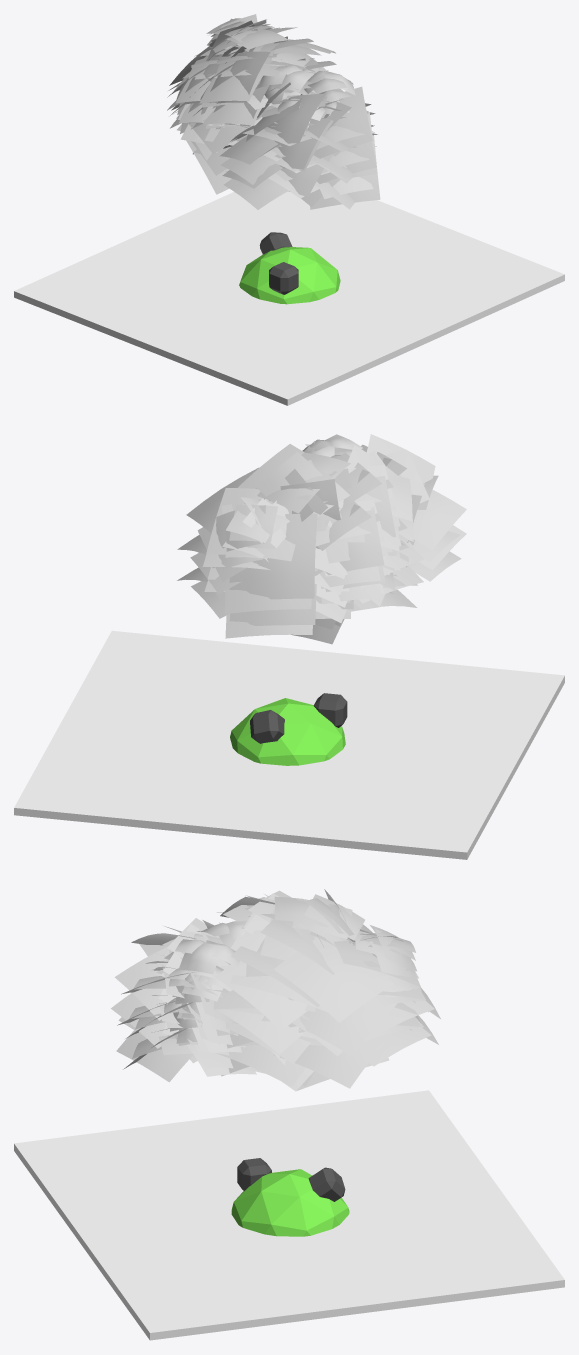
Rendered from modelPath.gltf.
3 views of the same model, one above another, from view 1: azimuth 30°, elevation 25°; view 2: azimuth 150°, elevation 25°; view 3: azimuth 270°, elevation 25° (orthographic). The views are drawn at different scales.
Parts seen in each view (by area): view 1: Plane, Icosphere, tree branch green 1.095, tree branch green 1.093, tree branch green 1.005, tree branch green 1.096, tree branch green 1.103, tree branch green 1.104, tree branch green 1.105, tree branch green 1.065, tree branch green 1.113, tree branch green 1.036 (+17 smaller); view 2: Plane, tree branch green 1.102, Icosphere, tree branch green 1.099, tree branch green 1.042, tree branch green 1.097, tree branch green 1.012, tree branch green 1.107, tree branch green 1.096, tree branch green 1.095, tree branch green 1.103, tree branch green 1.108 (+15 smaller); view 3: Plane, tree branch green 1.102, Icosphere, tree branch green 1.042, tree branch green 1.012, tree branch green 1.116, tree branch green 1.105, tree branch green 1.115, tree branch green 1.099, tree branch green 1.096, tree branch green 1.025, tree branch green 1.111 (+22 smaller).
Boxes of the visible parts, box(x1,y1,x2,y2) form: Plane: box(14, 191, 564, 405); Icosphere: box(239, 247, 340, 304); tree branch green 1.095: box(246, 93, 342, 144); tree branch green 1.093: box(313, 86, 372, 158); tree branch green 1.005: box(223, 170, 354, 209); tree branch green 1.096: box(220, 123, 356, 164); tree branch green 1.103: box(200, 43, 291, 103); tree branch green 1.104: box(189, 53, 315, 103); tree branch green 1.105: box(224, 36, 326, 72); tree branch green 1.065: box(260, 118, 335, 169); tree branch green 1.113: box(255, 65, 314, 104); tree branch green 1.036: box(220, 147, 352, 184); Plane: box(14, 630, 564, 859); tree branch green 1.102: box(186, 467, 346, 599); Icosphere: box(230, 698, 345, 765); tree branch green 1.099: box(256, 452, 340, 520); tree branch green 1.042: box(177, 535, 343, 613); tree branch green 1.097: box(226, 497, 286, 551); tree branch green 1.012: box(177, 567, 346, 638); tree branch green 1.107: box(315, 500, 387, 563); tree branch green 1.096: box(406, 475, 466, 550); tree branch green 1.095: box(361, 434, 435, 515); tree branch green 1.103: box(336, 445, 400, 526); tree branch green 1.108: box(325, 510, 399, 575); Plane: box(14, 1090, 564, 1340); tree branch green 1.102: box(274, 924, 428, 1022); Icosphere: box(231, 1169, 349, 1236); tree branch green 1.042: box(291, 987, 440, 1055); tree branch green 1.012: box(273, 1015, 438, 1088); tree branch green 1.116: box(213, 946, 326, 1011); tree branch green 1.105: box(246, 907, 334, 976); tree branch green 1.115: box(215, 961, 306, 1030); tree branch green 1.099: box(292, 889, 364, 943); tree branch green 1.096: box(114, 944, 172, 1020); tree branch green 1.025: box(215, 1045, 305, 1086); tree branch green 1.111: box(175, 939, 239, 974).
Size of the model in its own units: 18.21 by 13.41 by 17.46.
